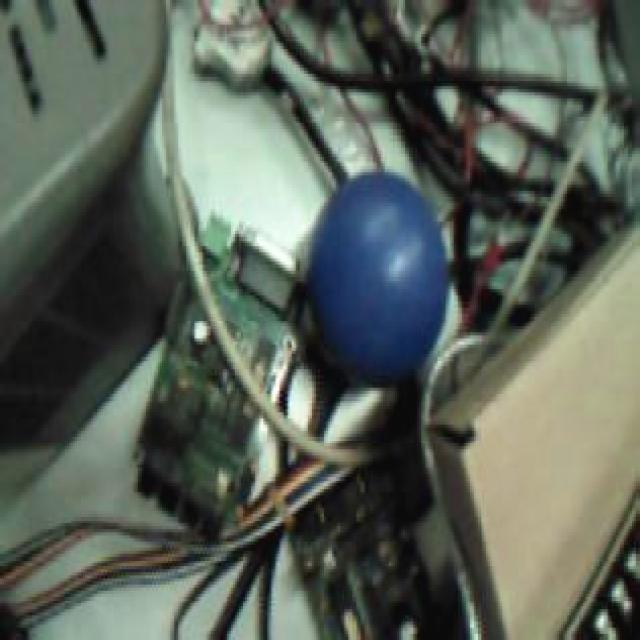BallPurple: (311, 174, 447, 387)
